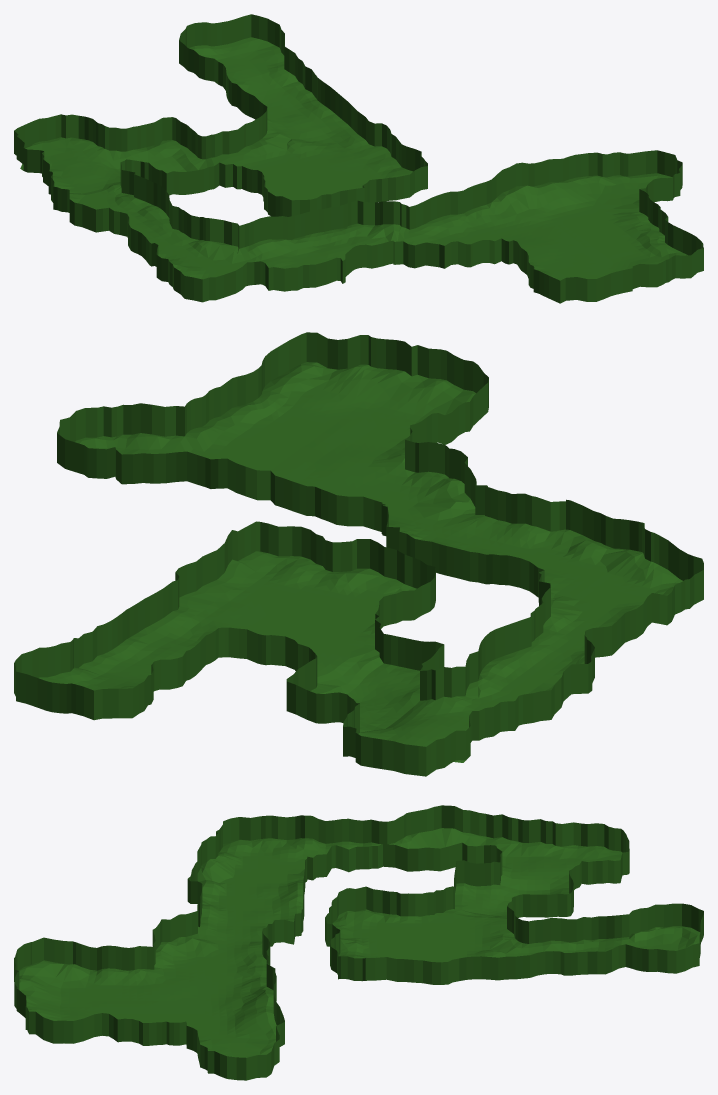
Rendered from ForestTutorialScene.dae.
The picture shows the model from 3 angles, top to bottom: view 1: azimuth 30°, elevation 25°; view 2: azimuth 150°, elevation 25°; view 3: azimuth 270°, elevation 25°; orthographic projection. The views are drawn at different scales.
Parts seen in each view (by area): view 1: walls, ground; view 2: walls, ground; view 3: walls, ground.
Part boxes in pixels (bbox=[...]): walls: bbox=[14, 14, 703, 303]; ground: bbox=[20, 37, 687, 285]; walls: bbox=[14, 332, 703, 776]; ground: bbox=[38, 362, 682, 762]; walls: bbox=[14, 805, 703, 1080]; ground: bbox=[19, 828, 700, 1057].
Size of the model in its own units: 23.6 by 2.43 by 28.09.
